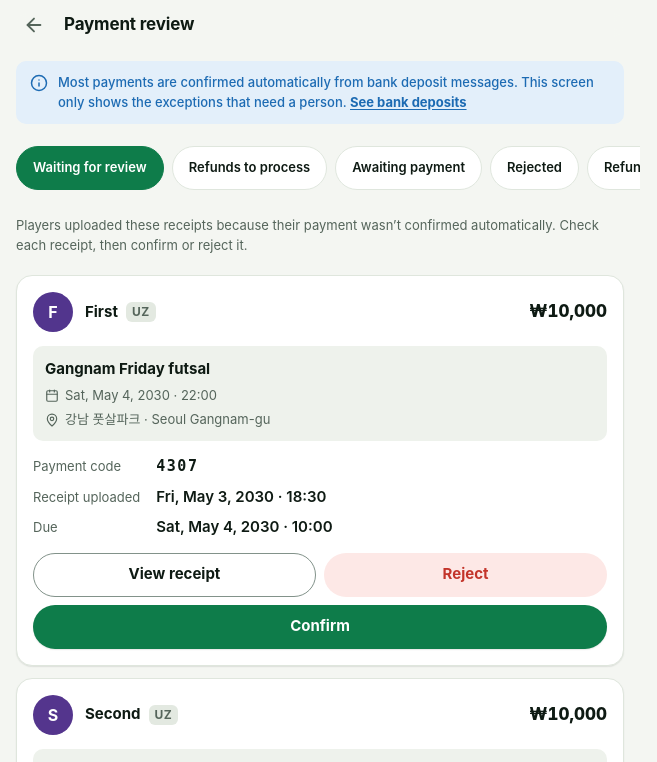
Test: payment review: confirming › confirms with one tap, thanks the admin by name, folds the card away and refreshes the queue
Click the button with aria-label "Confirm: First" at (320, 626), box [33,604,607,648]
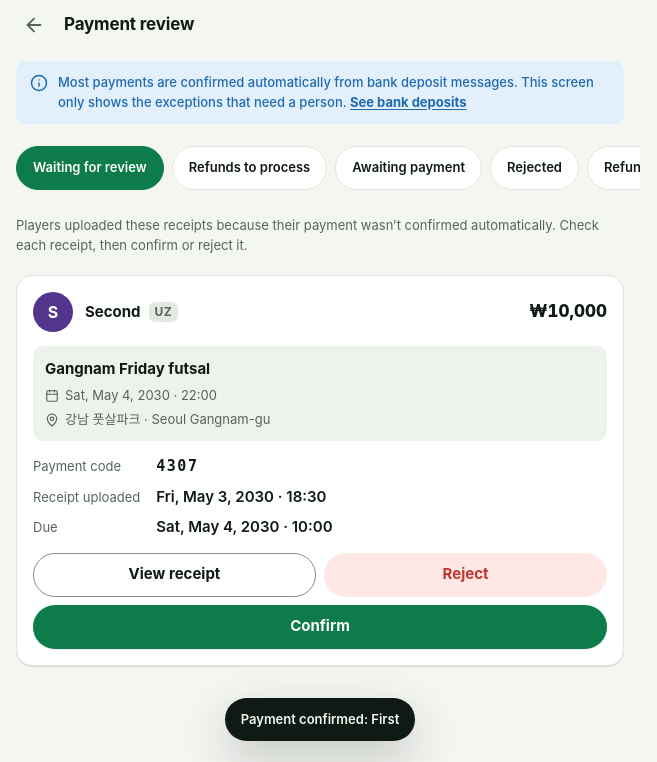
expect the element "Second" is shown: met, box [16,275,624,666]
expect the text "Payment confirmed: First" is shown: met, box [225,698,415,741]
